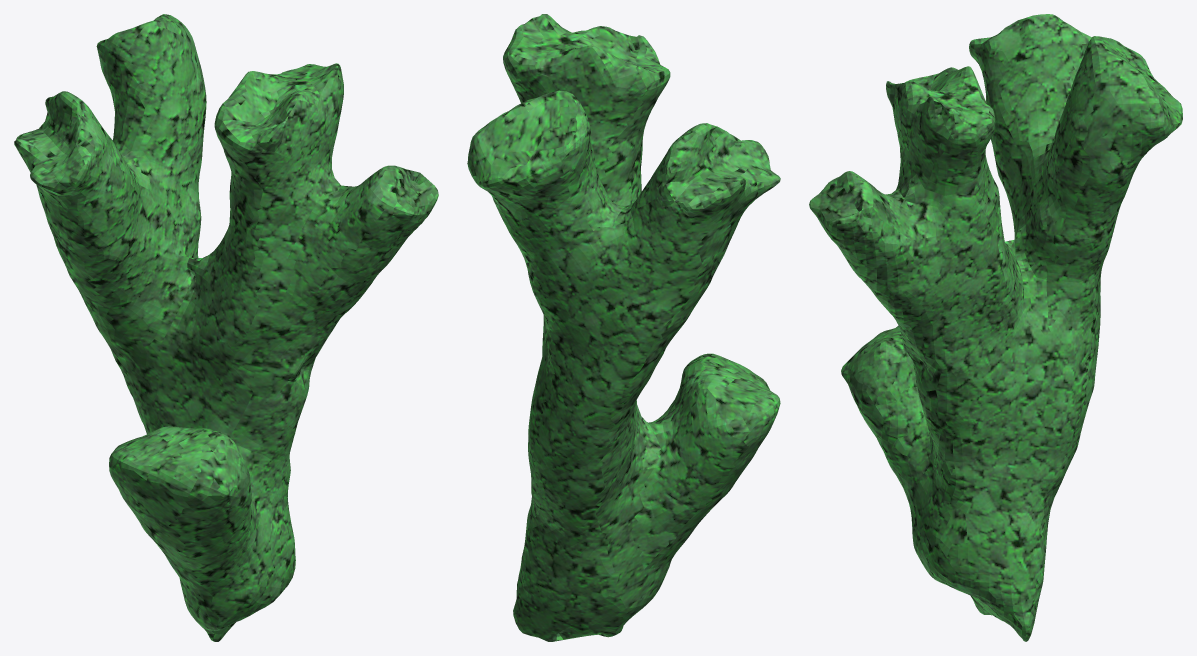
Rendered from coral tree green.glb.
3 renders of one model, left to right at view 1: azimuth 30°, elevation 25°; view 2: azimuth 150°, elevation 25°; view 3: azimuth 270°, elevation 25°, orthographic. The views are drawn at different scales.
Parts seen in each view (by area): view 1: coral_9_watertight_small; view 2: coral_9_watertight_small; view 3: coral_9_watertight_small.
Part boxes in pixels (x1=…): coral_9_watertight_small: x1=14, y1=14, x2=438, y2=641; coral_9_watertight_small: x1=467, y1=14, x2=780, y2=641; coral_9_watertight_small: x1=809, y1=14, x2=1182, y2=641.
Bounding box in the file's own units: 49.05 × 84.97 × 50.45.
Materials: 1 (1 with a texture image).
